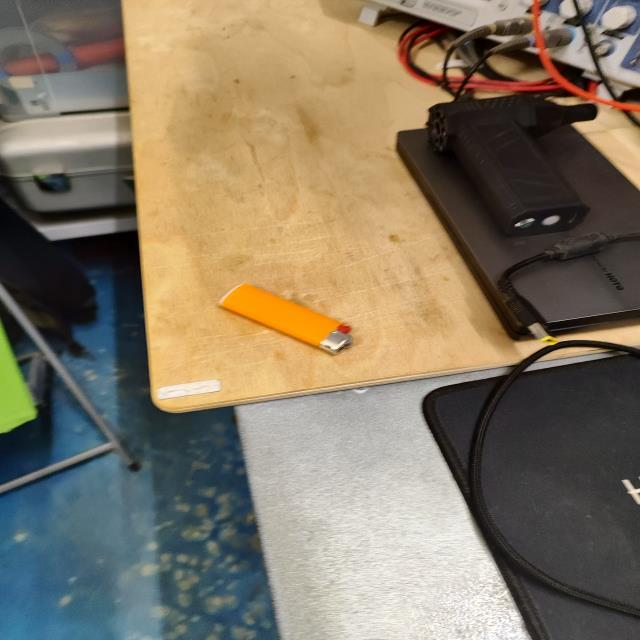lighter: (220, 284, 351, 353)
